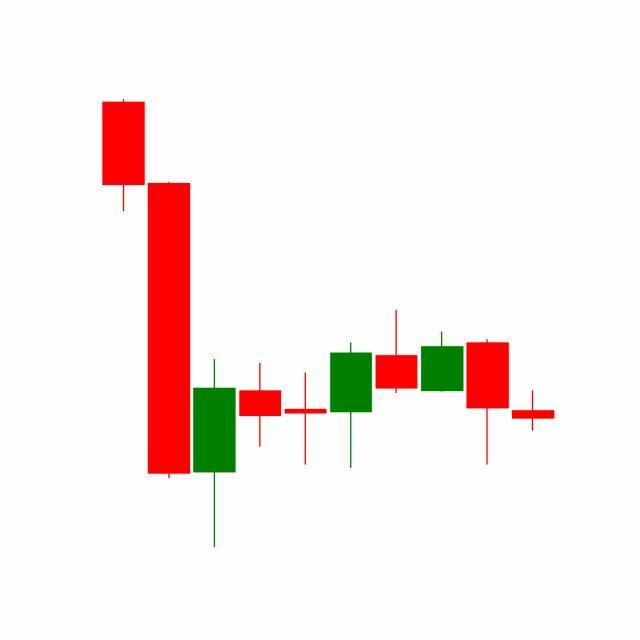Hikkake Pattern: (283, 309, 512, 471)
